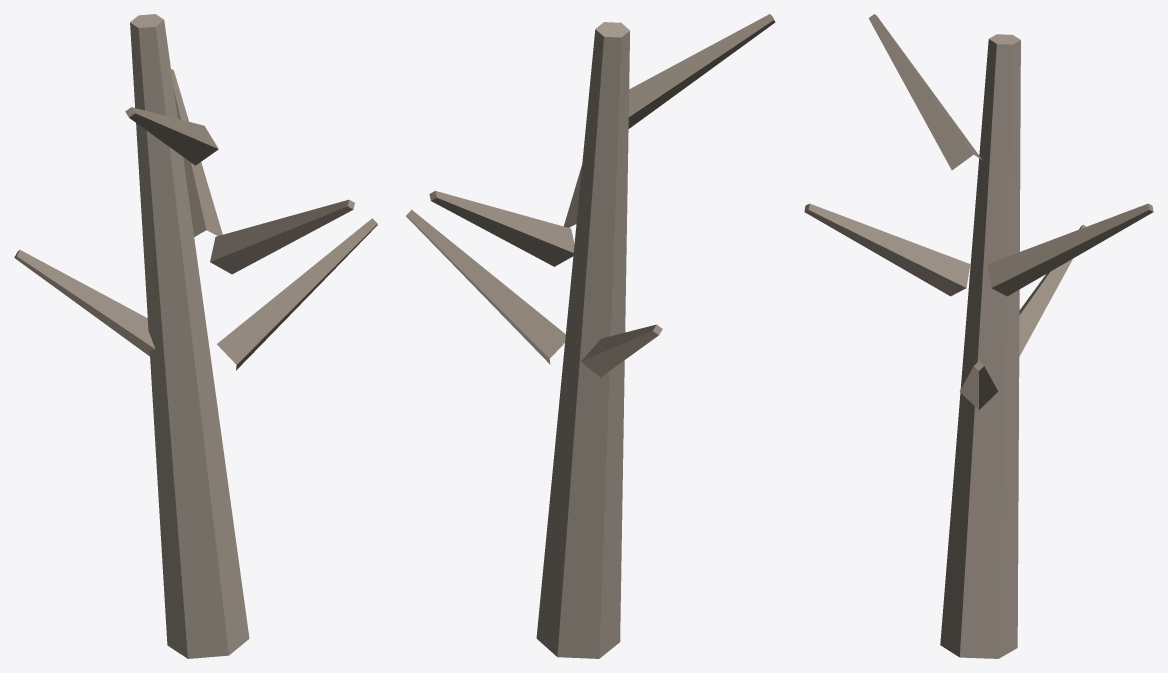
File: deadtree_v10.glb
3 renders of one model, left to right at view 1: azimuth 30°, elevation 25°; view 2: azimuth 150°, elevation 25°; view 3: azimuth 270°, elevation 25°, orthographic. The views are drawn at different scales.
Visible parts, largest first — view 1: lod0; view 2: lod0; view 3: lod0.
Part boxes in pixels (x1,y1,x2,y2): lod0: (14,14,377,658); lod0: (406,14,775,658); lod0: (804,14,1153,658).
Size of what is drawn, in the model's own units: 2.68 by 5.24 by 2.81.
